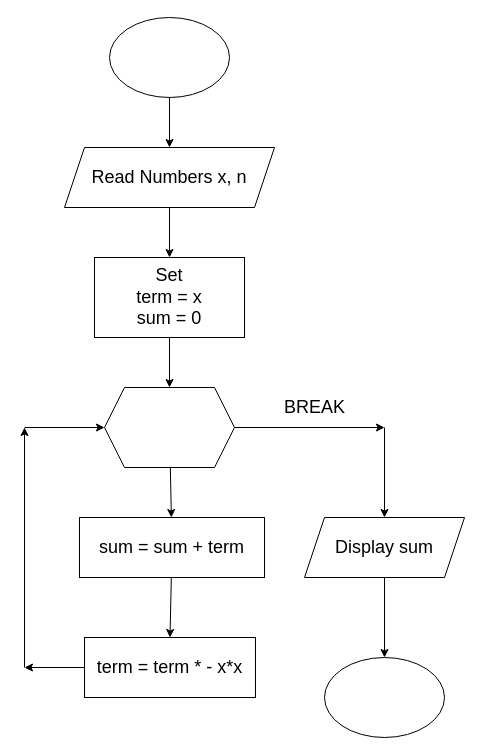
The diagram is 482 pixels wide and 755 high, and some of its shapes have lost their labels. The centre of each missing label's shape, as x and y in pixels:
"END" belongs at pixel 384 697.
"for i = 0 to (n-1) / 2 + 1" belongs at pixel 169 427.
"START" belongs at pixel 169 57.
